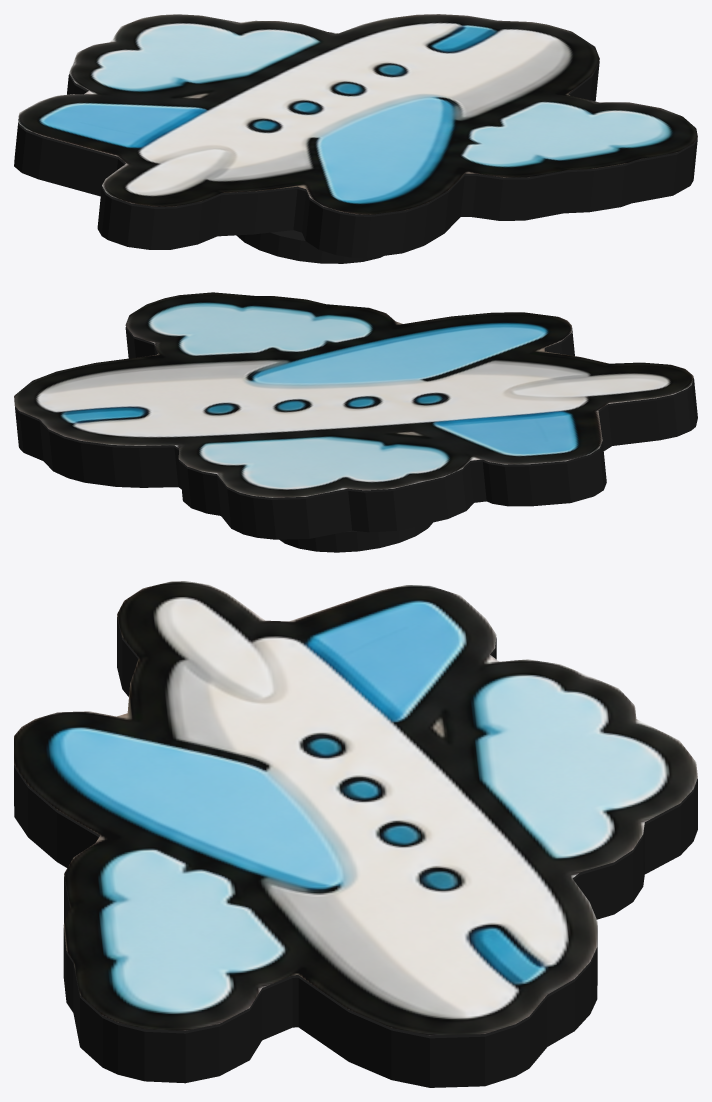
File: travel-airplane.glb
3 views of the same model, one above another, from view 1: azimuth 30°, elevation 25°; view 2: azimuth 150°, elevation 25°; view 3: azimuth 270°, elevation 25° (orthographic). The views are drawn at different scales.
Parts seen in each view (by area): view 1: TRAVEL_Airplane_MODEL; view 2: TRAVEL_Airplane_MODEL; view 3: TRAVEL_Airplane_MODEL.
Part boxes in pixels (x1,y1,x2,y2): TRAVEL_Airplane_MODEL: (14, 14, 697, 263); TRAVEL_Airplane_MODEL: (14, 292, 697, 552); TRAVEL_Airplane_MODEL: (14, 581, 697, 1087).
Bounding box in the file's own units: 0.3881 × 0.103 × 0.3009.
3 materials, 1 textured.
